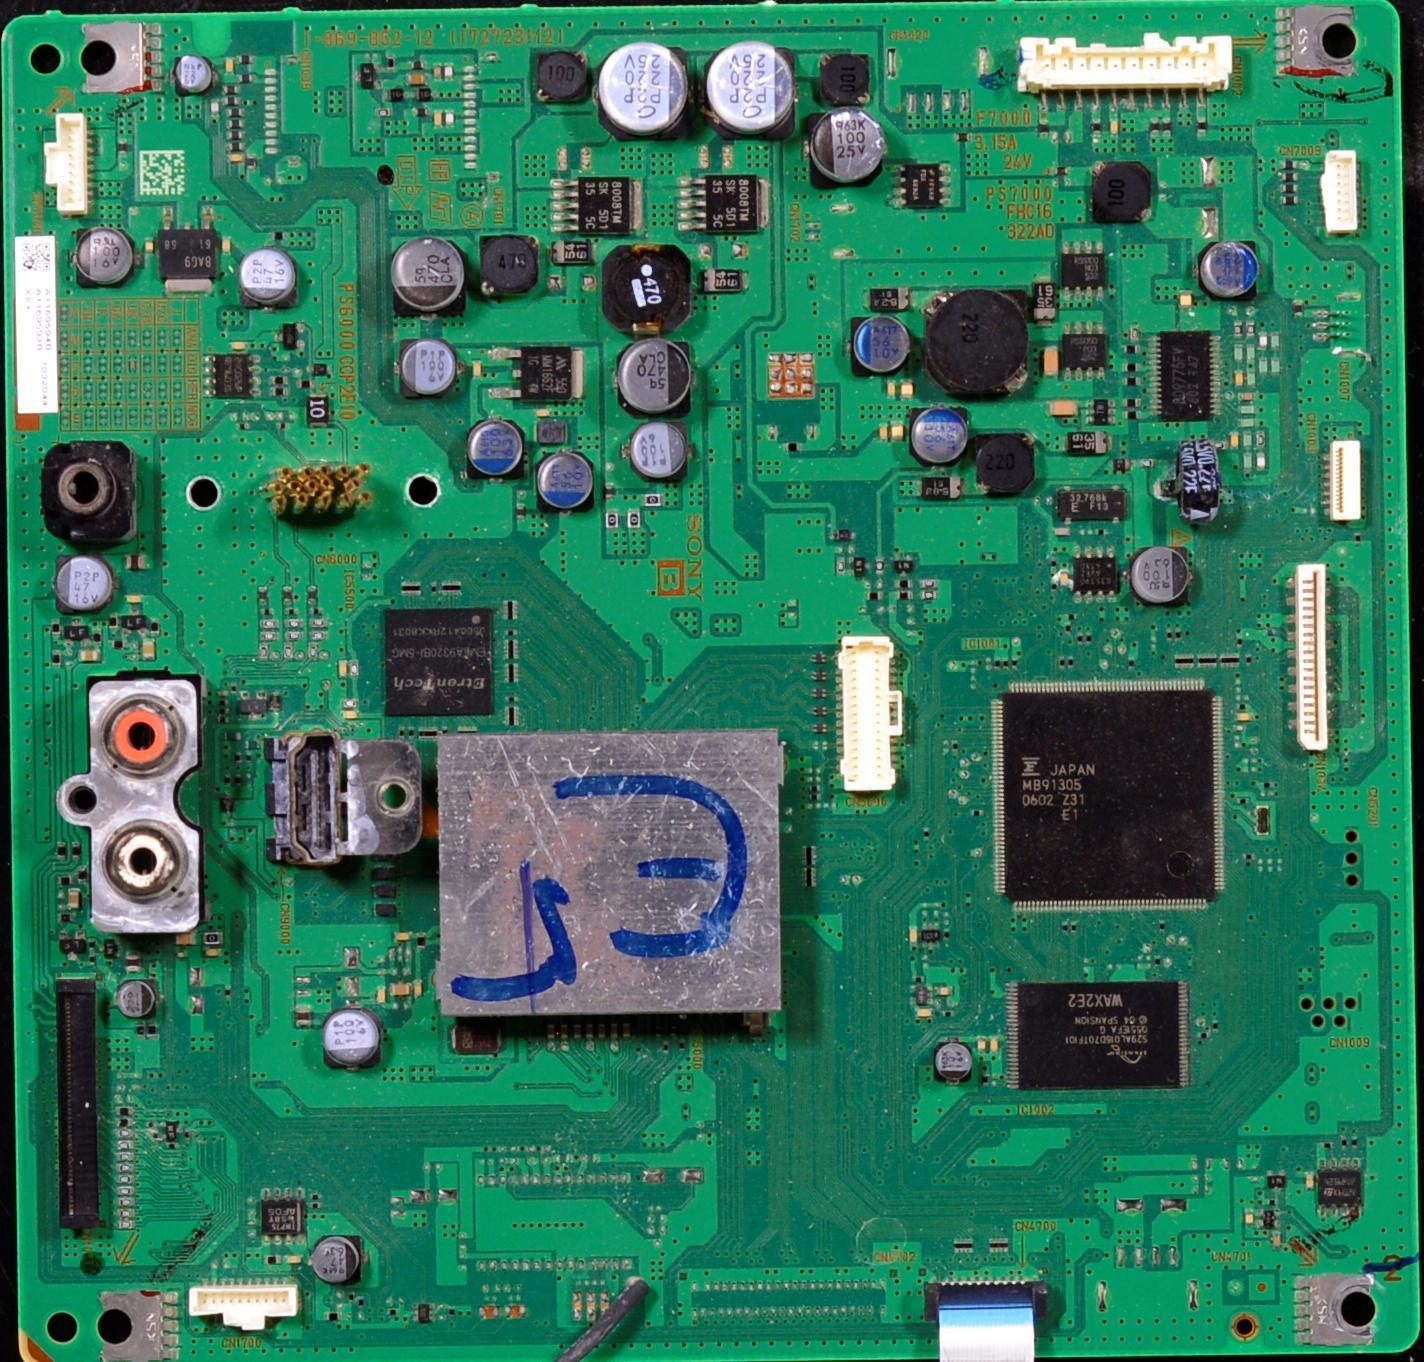Capacitor Jumper: (592, 39, 704, 139), (379, 225, 477, 328), (709, 45, 800, 140), (609, 334, 706, 417), (230, 245, 323, 314), (397, 340, 463, 415), (320, 1008, 392, 1076), (44, 553, 120, 616), (907, 408, 975, 476), (535, 448, 598, 521), (67, 230, 146, 287), (848, 315, 915, 382), (463, 418, 534, 481), (626, 426, 701, 485), (915, 1042, 982, 1090), (168, 52, 215, 104), (117, 980, 163, 1022), (1039, 340, 1062, 388), (551, 142, 578, 174), (392, 923, 422, 949), (872, 416, 893, 453), (1045, 397, 1081, 416), (177, 930, 205, 954), (901, 921, 923, 951), (1172, 286, 1193, 318), (78, 649, 111, 668), (67, 883, 88, 913), (392, 980, 418, 1003), (140, 637, 163, 663), (333, 657, 353, 685), (1297, 1170, 1318, 1194), (1240, 1204, 1257, 1234), (476, 354, 492, 384), (535, 402, 558, 423), (1107, 114, 1126, 140), (697, 146, 716, 170), (376, 986, 393, 1012), (221, 235, 240, 258), (901, 379, 917, 407), (893, 420, 907, 450), (404, 74, 437, 86), (1231, 427, 1247, 451), (339, 706, 365, 721), (1269, 1230, 1285, 1253), (975, 1033, 989, 1059), (934, 986, 961, 1000), (582, 145, 595, 174), (221, 53, 239, 74), (885, 379, 899, 404), (1235, 390, 1263, 403), (123, 593, 147, 607), (145, 237, 160, 258), (725, 145, 737, 170), (917, 1008, 940, 1022), (228, 153, 252, 165), (1233, 366, 1247, 388), (417, 977, 428, 1001), (434, 111, 446, 132), (231, 340, 250, 352), (989, 1036, 1001, 1056), (203, 953, 228, 961)
Connector: (1263, 557, 1372, 774), (996, 22, 1255, 102), (830, 632, 914, 802), (187, 1278, 319, 1345), (1313, 439, 1385, 538), (39, 113, 104, 220), (1313, 148, 1367, 256)
IC: (988, 685, 1240, 917), (1004, 980, 1205, 1097), (373, 603, 503, 721), (493, 340, 595, 411), (680, 172, 784, 238), (552, 175, 654, 240)
Resistor Jumper: (809, 106, 890, 200), (1086, 116, 1107, 140), (954, 131, 982, 148), (371, 107, 397, 125), (1120, 396, 1152, 409), (865, 589, 887, 608), (52, 843, 72, 863), (1163, 114, 1180, 139), (1277, 156, 1304, 170), (442, 60, 456, 88), (868, 557, 890, 575), (70, 841, 86, 863), (1149, 116, 1163, 142), (1039, 116, 1053, 142), (1278, 193, 1307, 206), (1120, 408, 1149, 421), (1118, 343, 1140, 359), (1121, 361, 1144, 376), (1123, 373, 1147, 387), (348, 659, 364, 680), (1273, 170, 1304, 181), (1232, 320, 1246, 343), (236, 53, 257, 69), (1277, 183, 1303, 195), (226, 142, 248, 156), (1293, 298, 1307, 319), (76, 867, 94, 884), (1245, 319, 1257, 342), (898, 579, 918, 593), (1195, 117, 1208, 139), (837, 556, 848, 579), (270, 376, 295, 387), (299, 378, 317, 392), (228, 107, 247, 120), (58, 875, 78, 888), (445, 112, 456, 132), (409, 62, 432, 72), (414, 106, 431, 120), (239, 74, 257, 86), (387, 56, 399, 72), (228, 131, 245, 142), (901, 591, 919, 603), (226, 118, 247, 127), (224, 86, 244, 95), (272, 389, 289, 398), (228, 95, 242, 106)
